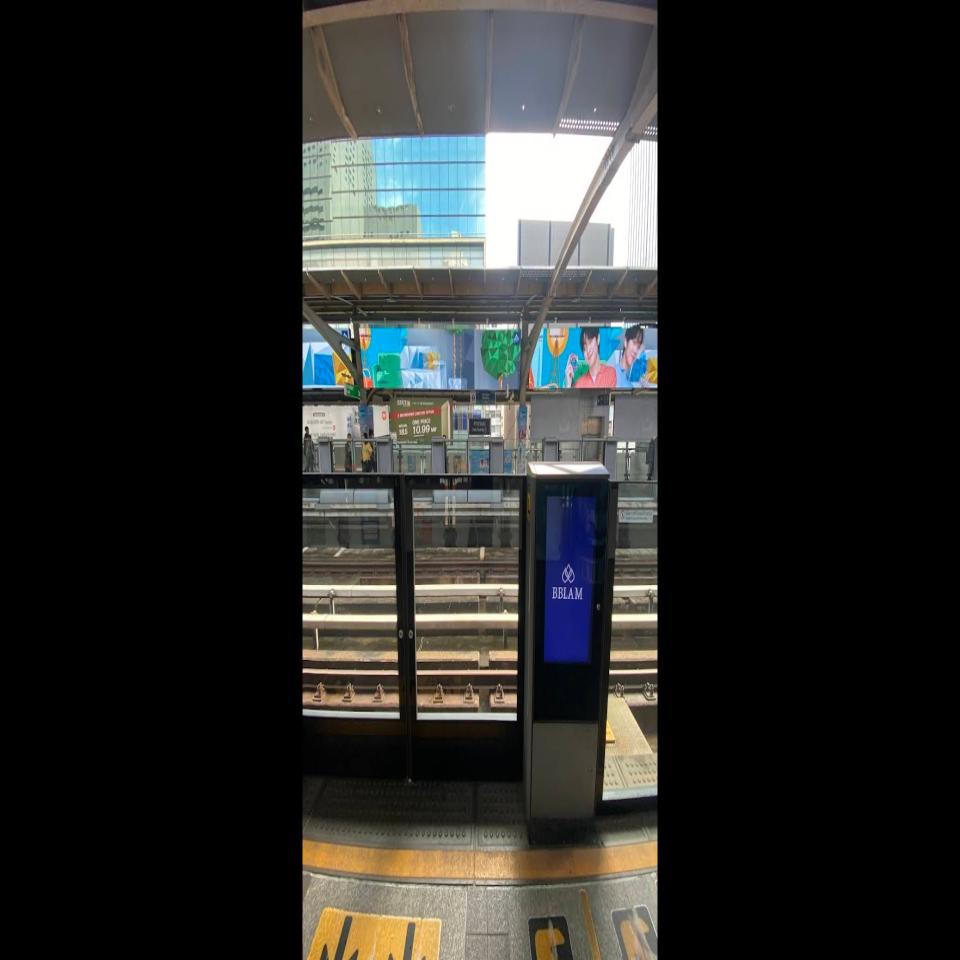Sala Daeng: (468, 417, 490, 435)
